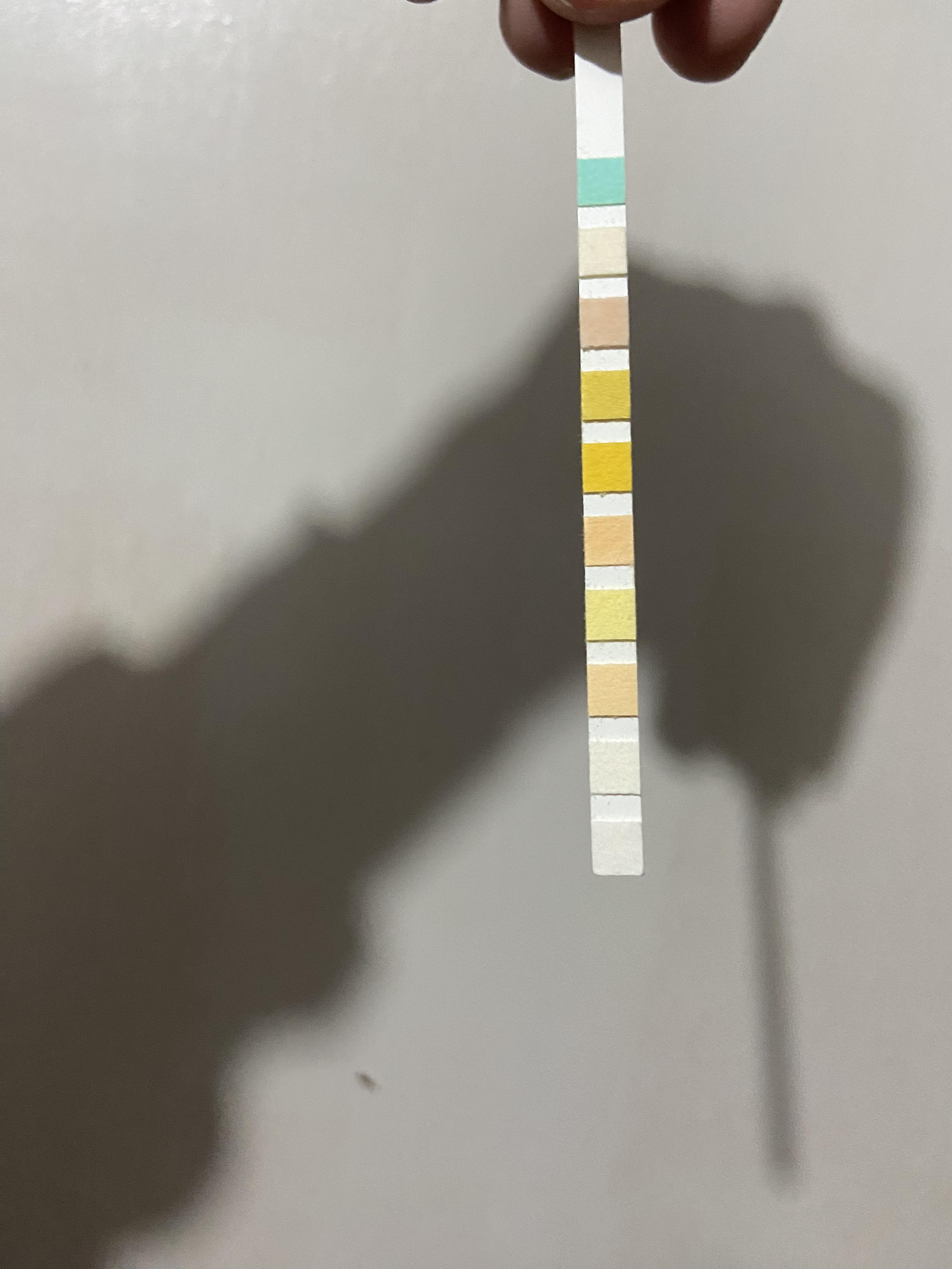Bilirubin: (581, 230, 625, 275)
Blood: (583, 443, 632, 492)
Glucose: (579, 160, 625, 204)
Ketone: (581, 300, 629, 346)
Leukocytes: (592, 821, 642, 874)
Nitrite: (590, 741, 639, 793)
Protein: (587, 591, 634, 640)
SpGravity: (582, 372, 630, 419)
Urobilinogen: (588, 665, 637, 716)
pH: (585, 517, 634, 566)
strip: (578, 60, 645, 877)
